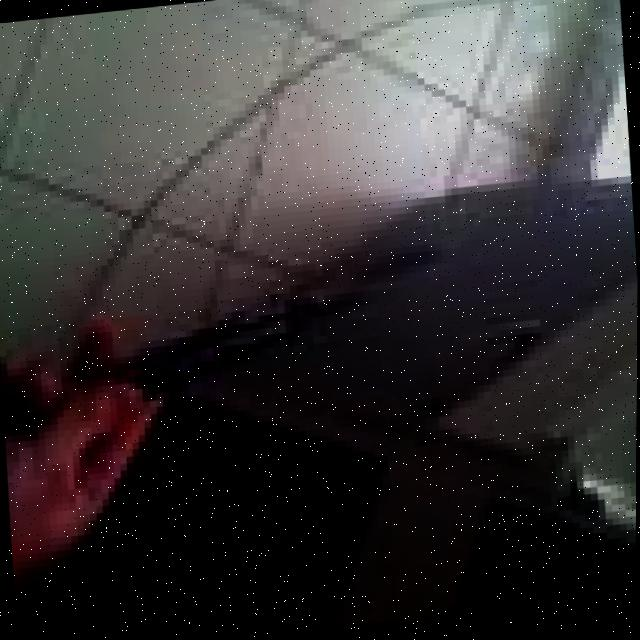knife: (122, 233, 456, 406)
